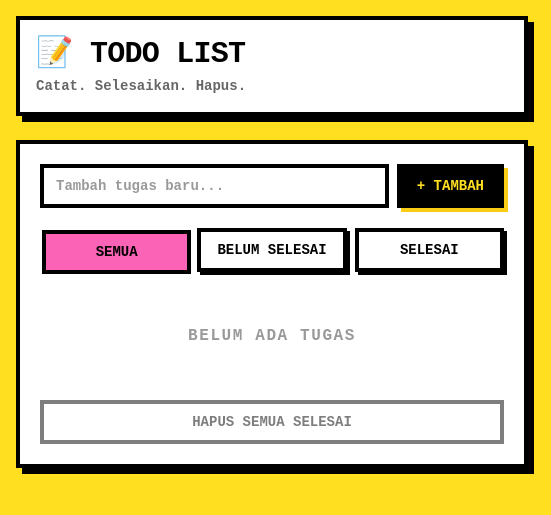
Test: App integration tests › edit task flow: click edit → change title → save → title updated
The image size is (551, 515).
Step 1. Type "Tugas lama" into the field named "judul tugas" → (214, 186), box [40,164,389,208]
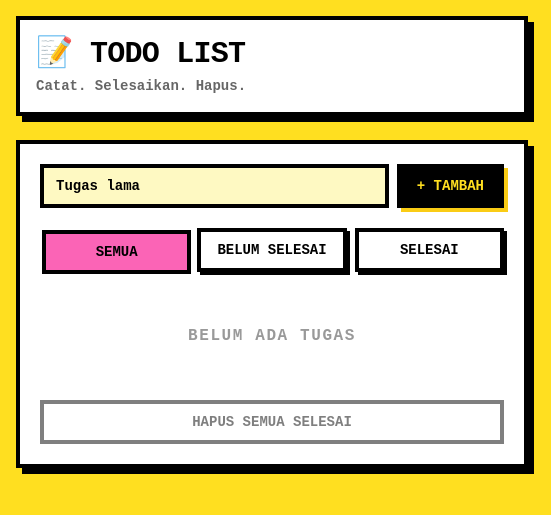
Step 2. Click the button "+ Tambah" → (450, 186), box [397,164,504,208]
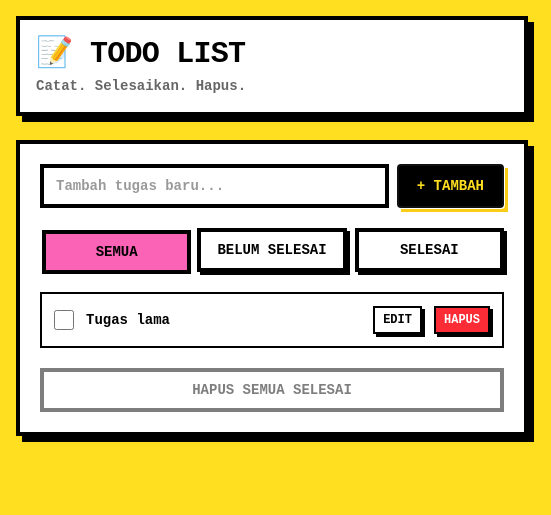
Step 3. Click the button "Edit" → (398, 320), box [373,306,422,334]
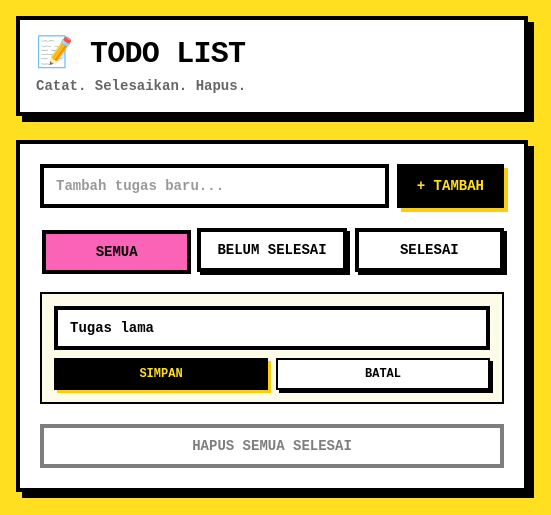
Step 4. Replace the text in the field named "edit judul tugas" with "Tugas baru" → (272, 328), box [54,306,490,350]
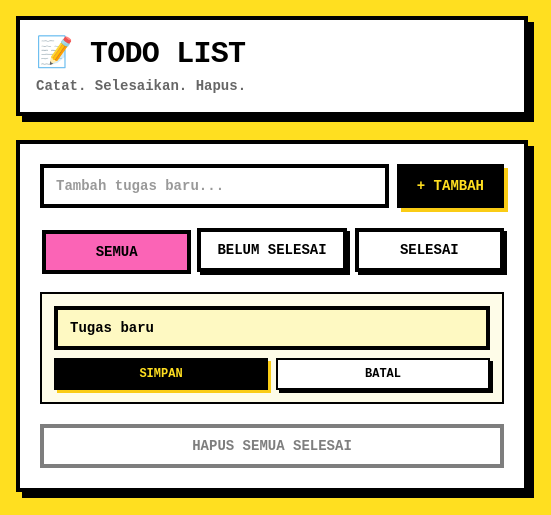
Step 5. Click the button "Simpan" → (161, 374), box [54,358,268,390]
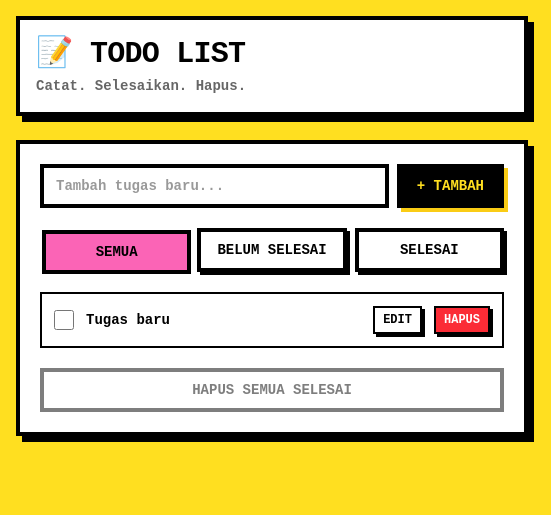
Expected: the text "Tugas lama" is not shown
Result: the text "Tugas baru" is shown at [86,312,170,328]
